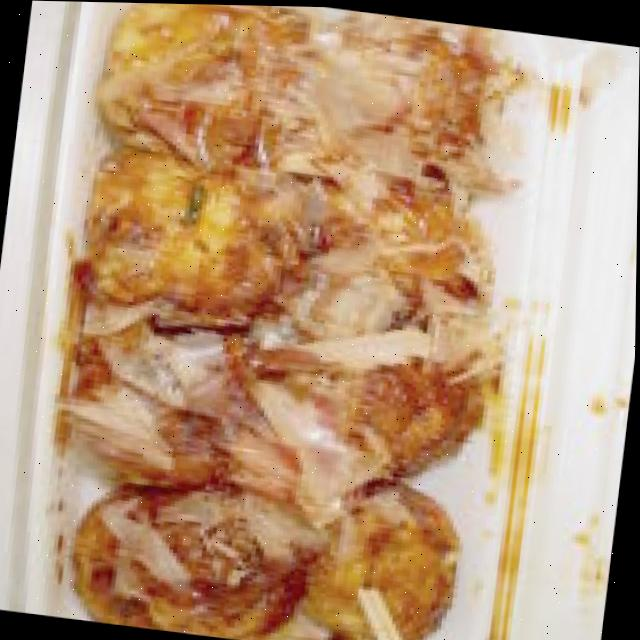炸货点心: (34, 1, 557, 640)
